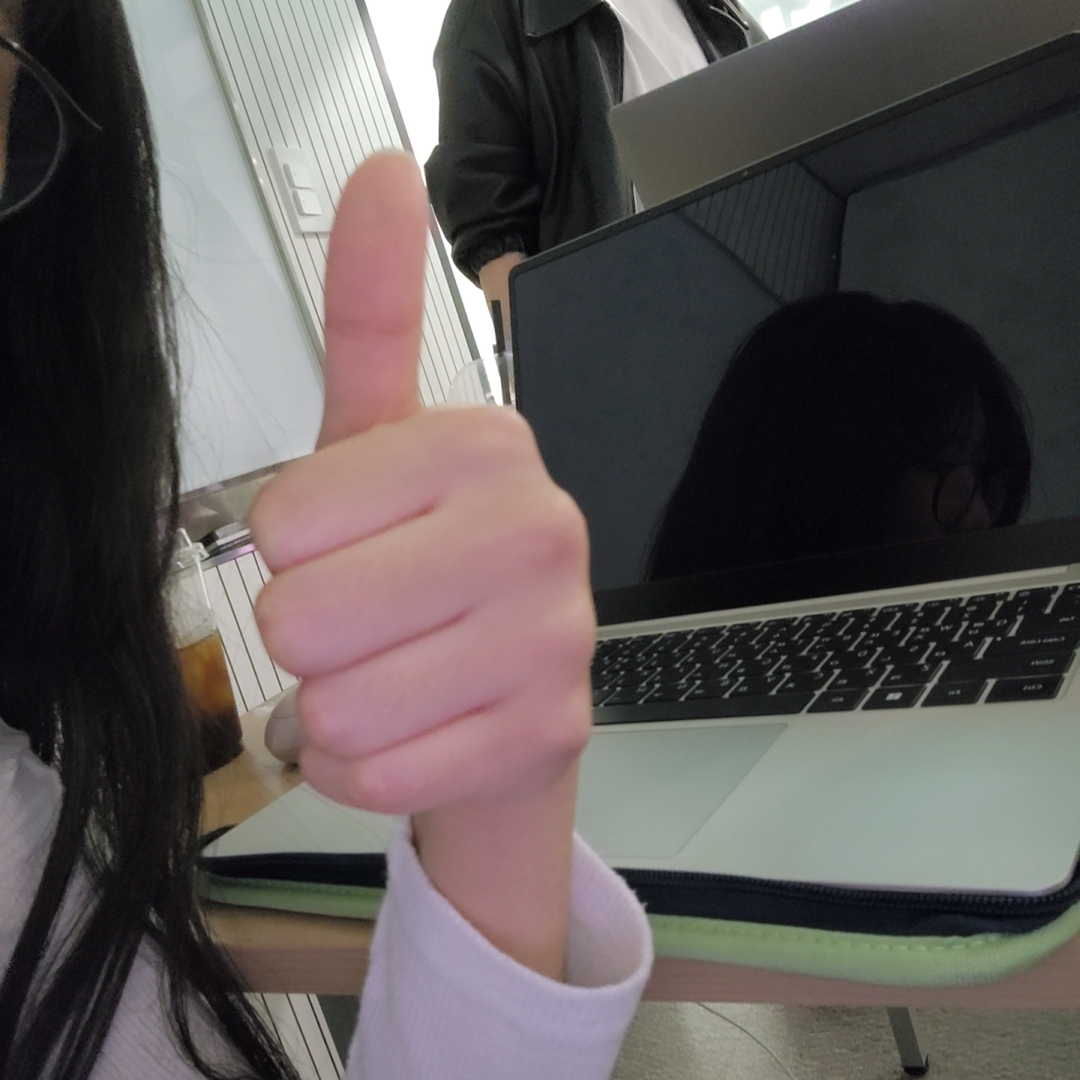best: (253, 150, 592, 816)
